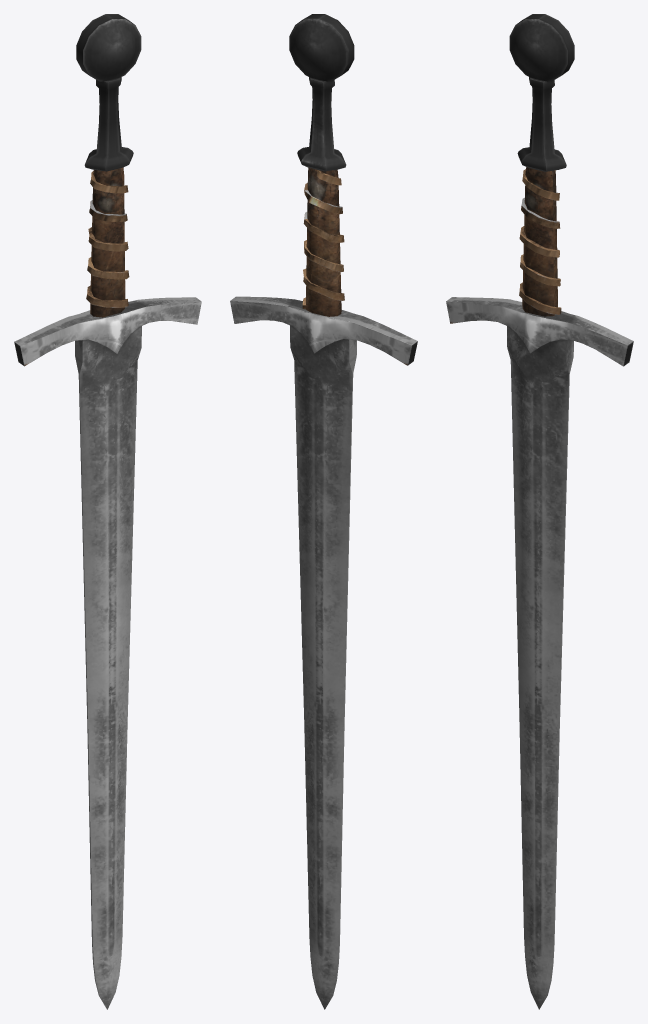
File: 68_ELM_Sword.fbx
3 views of the same model, side by side, from view 1: azimuth 30°, elevation 25°; view 2: azimuth 150°, elevation 25°; view 3: azimuth 330°, elevation 25° (orthographic).
Parts seen in each view (by area): view 1: Sword; view 2: Sword; view 3: Sword.
Boxes of the visible parts, x1,y1,x2,y2 form: Sword: (14,14,201,1009); Sword: (230,14,417,1009); Sword: (446,14,633,1009).
Bounding box in the file's own units: 0.9154 × 4.78 × 0.1684.
Materials: 1 (1 with a texture image).
